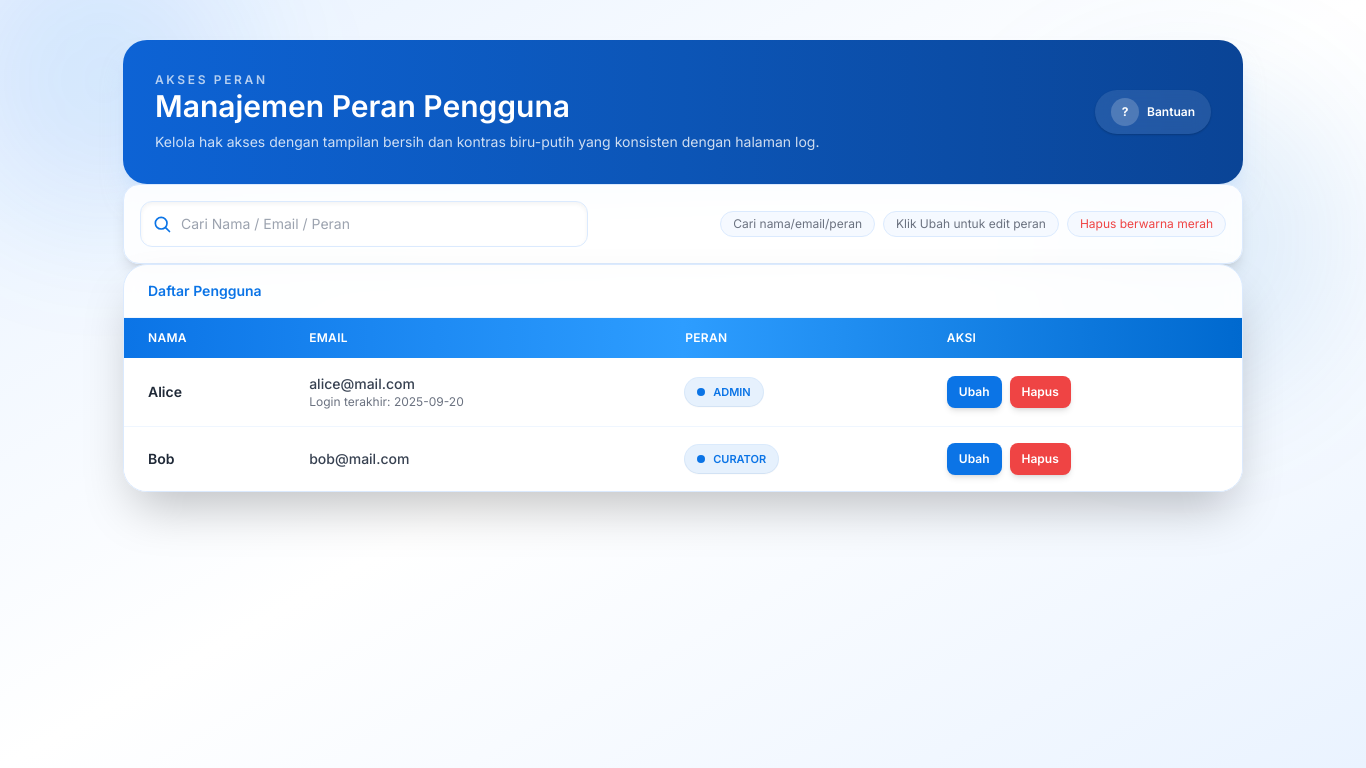
Scenario: legacy confirm delete failure shows error toast and alert
Expected: the text "Bob" is shown, 148,450 -> 174,467
Step 1. Click the button "Hapus" in the row of "bob@mail.com" → click(1040, 459), box 1010,443 -> 1071,475
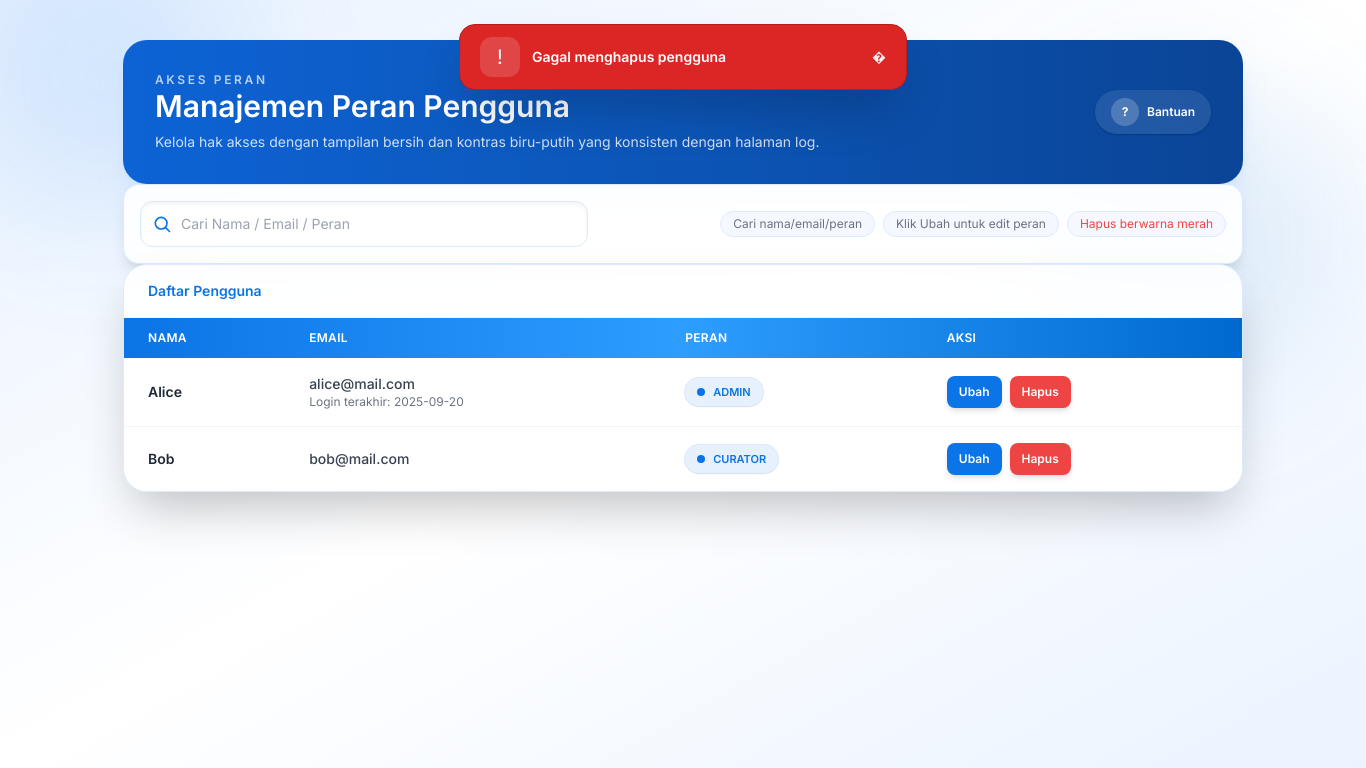
Now the text "Gagal menghapus pengguna" is shown, box 532,48 -> 726,65
